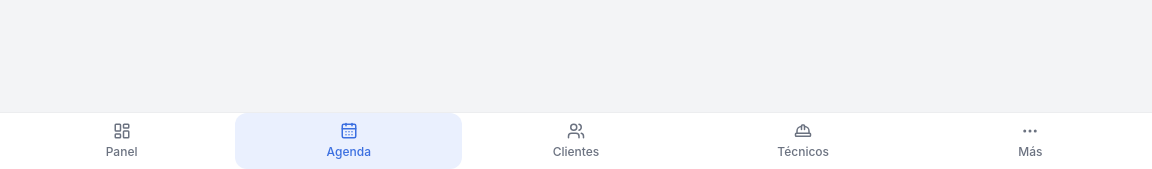
Test case: BottomNav › cierra el menú con Escape y devuelve el foco a "Más"
The width and height of the screenshot is (1152, 169).
Click the button "Más": (1030, 141) [917, 113, 1144, 168]
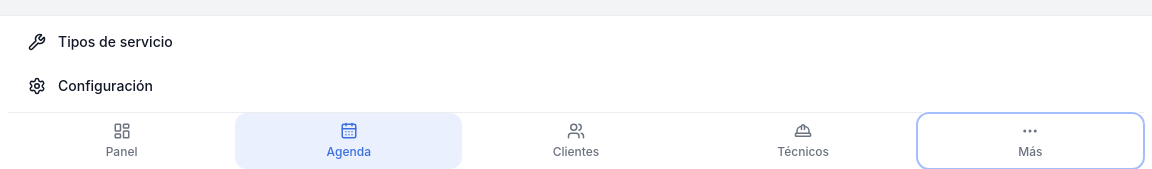
Press Escape
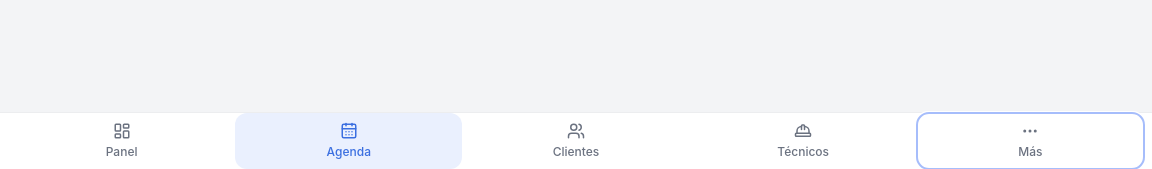
Result: the link "Configuración" is gone
